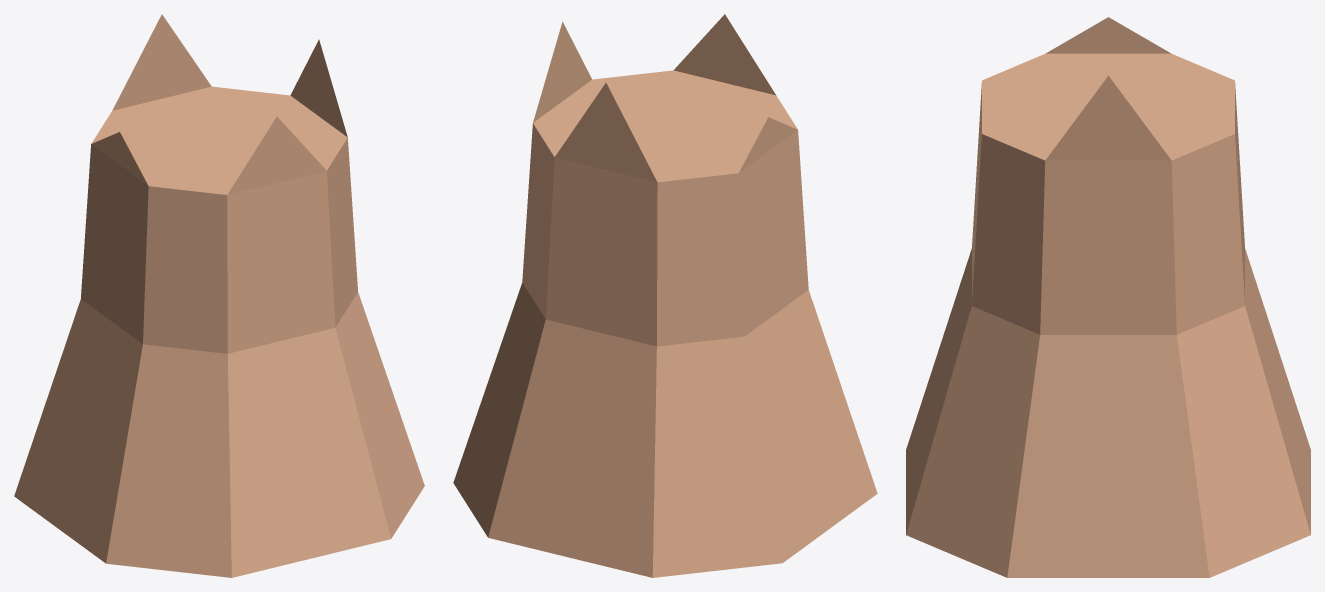
Rendered from tree-autumn-trunk.obj.
3 views of the same model, side by side, from view 1: azimuth 30°, elevation 25°; view 2: azimuth 150°, elevation 25°; view 3: azimuth 270°, elevation 25° (orthographic). The views are drawn at different scales.
Size of the model in its own units: 0.2 by 0.2608 by 0.2.
